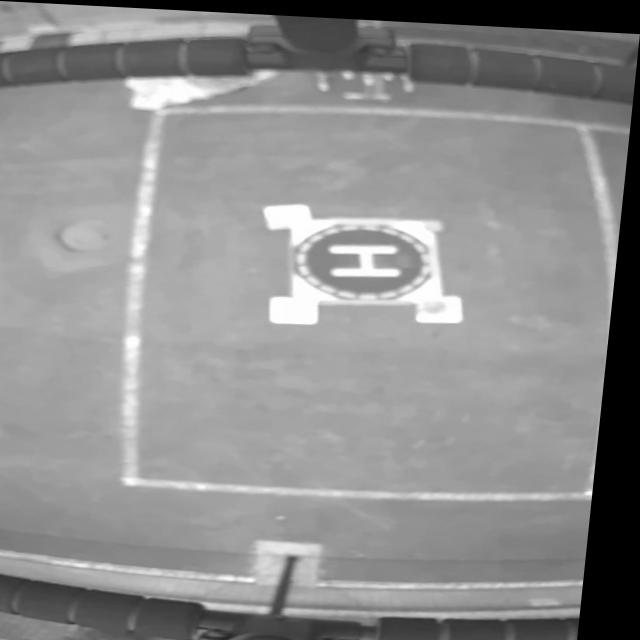Helipad: (334, 240, 407, 272)
